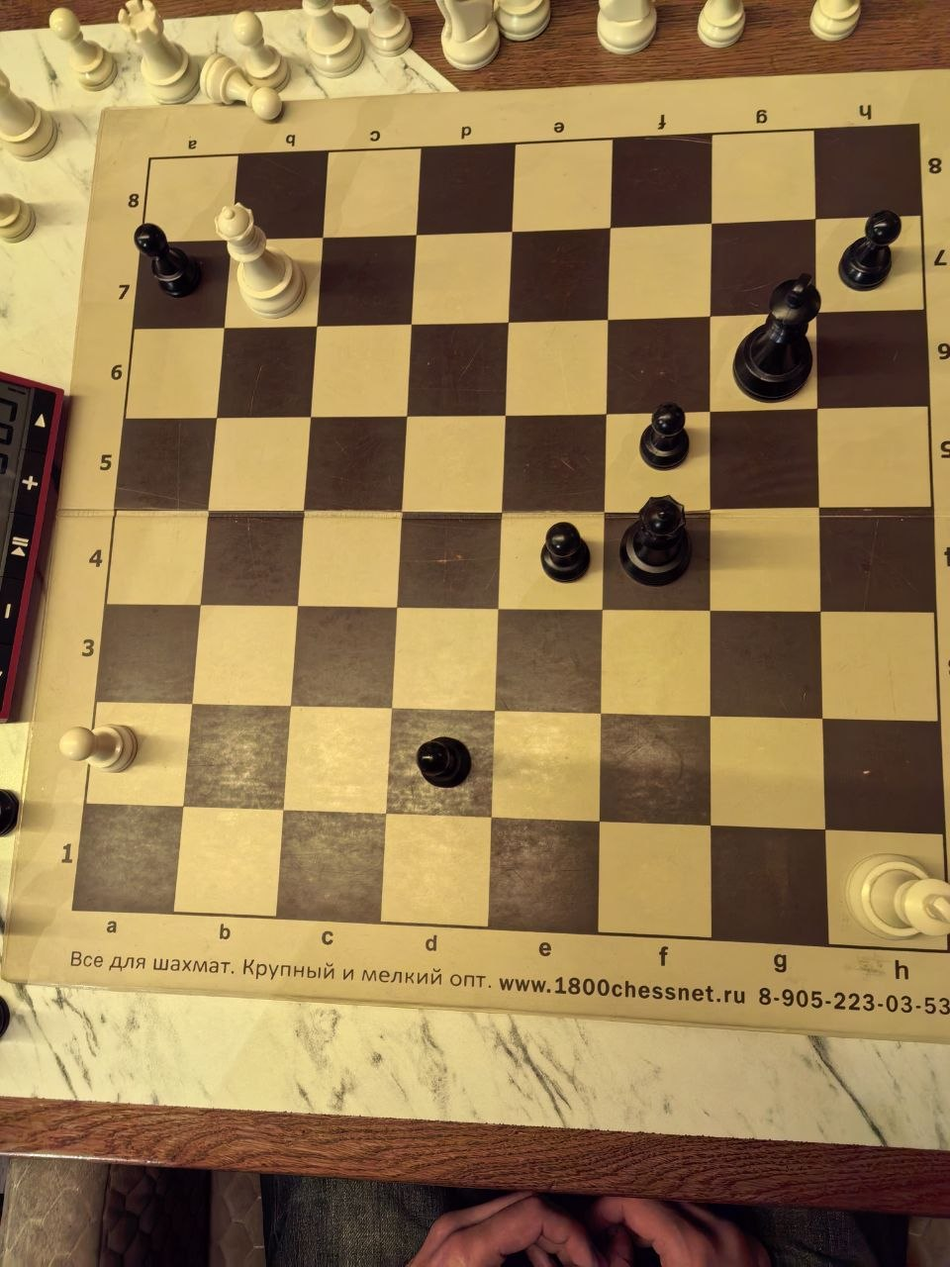black-bishop: (831, 1109, 950, 1267)
black-king: (119, 158, 238, 317)
black-rook: (0, 950, 119, 1109)
white-bishop: (712, 317, 831, 475)
white-king: (594, 634, 712, 792)
white-rook: (0, 158, 119, 317), (831, 158, 950, 317), (356, 950, 475, 1109), (475, 634, 594, 792), (594, 475, 712, 634)
